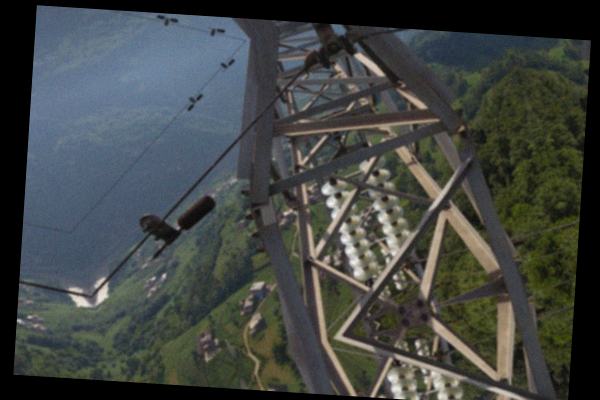damper: (185, 93, 204, 113), (154, 14, 180, 27)
damper_defect: (136, 194, 216, 266), (219, 57, 235, 75), (205, 25, 227, 37)
